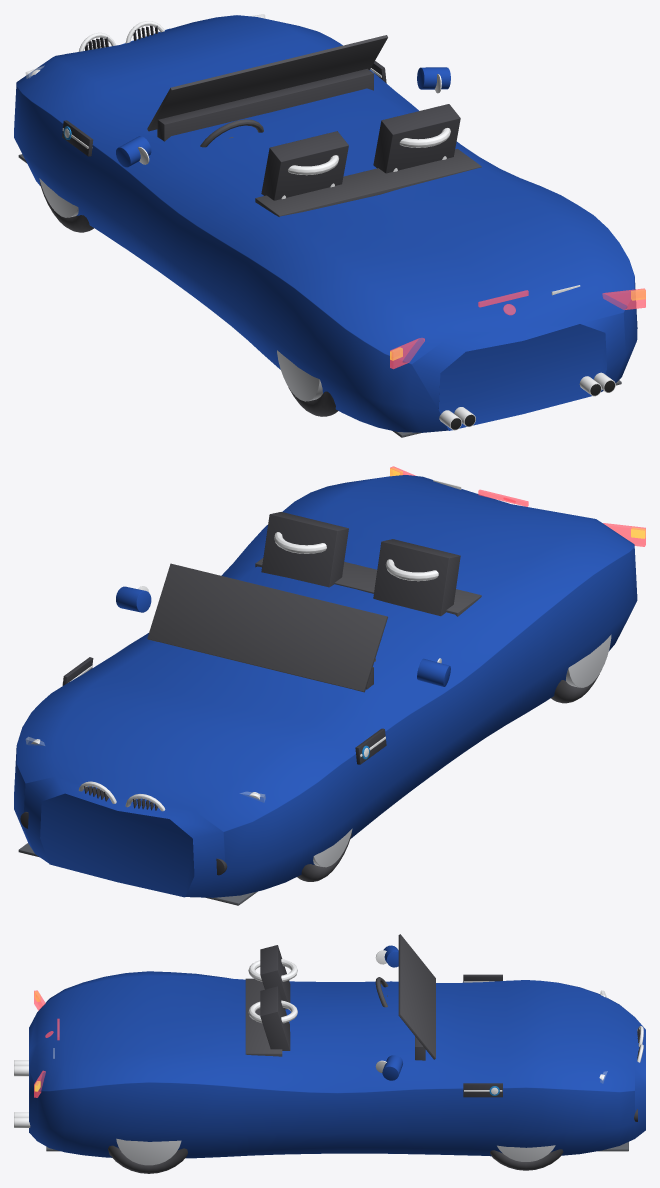
Rendered from Car_BMW_Z3M_Roadster_Complete.glb.
The picture shows the model from 3 angles, top to bottom: view 1: azimuth 30°, elevation 25°; view 2: azimuth 150°, elevation 25°; view 3: azimuth 270°, elevation 25°; orthographic projection. The views are drawn at different scales.
Visible parts, largest first — view 1: GEO_Z3M_Widebody_Monocoque_Shell, GEO_Z3M_MSport_Nappa_Bucket_Seats, GEO_Z3M_Windshield_Satin_Black_Frame, GEO_Z3M_Driver_Oriented_Dashboard, GEO_Z3M_Folded_SoftTop_Tonneau_Deck, GEO_Z3M_LShaped_Ruby_Taillamp_Clusters, GEO_Z3M_M_Teardrop_Mirror_Housings, GEO_Z3M_Rear_17in_DeepDish_RoadStar_Rims, GEO_Z3M_Twin_Chrome_Roll_Over_Hoops, GEO_Z3M_Quad_Chrome_Exhaust_Tips, GEO_Z3M_Side_Fender_Engine_Gills, GEO_Z3M_Rear_245_40ZR17_PilotSport_Tires; view 2: GEO_Z3M_Widebody_Monocoque_Shell, GEO_Z3M_Windshield_Satin_Black_Frame, GEO_Z3M_MSport_Nappa_Bucket_Seats, GEO_Z3M_M_Teardrop_Mirror_Housings, GEO_Z3M_Folded_SoftTop_Tonneau_Deck, GEO_Z3M_Rear_17in_DeepDish_RoadStar_Rims, GEO_Z3M_Twin_Chrome_Roll_Over_Hoops, GEO_Z3M_Side_Fender_Engine_Gills, GEO_Z3M_LShaped_Ruby_Taillamp_Clusters; view 3: GEO_Z3M_Widebody_Monocoque_Shell, GEO_Z3M_Windshield_Satin_Black_Frame, GEO_Z3M_MSport_Nappa_Bucket_Seats, GEO_Z3M_Folded_SoftTop_Tonneau_Deck, GEO_Z3M_Rear_17in_DeepDish_RoadStar_Rims, GEO_Z3M_Rear_245_40ZR17_PilotSport_Tires, GEO_Z3M_Twin_Chrome_Roll_Over_Hoops, GEO_Z3M_Side_Fender_Engine_Gills, GEO_Z3M_Front_225_45ZR17_PilotSport_Tires, GEO_Z3M_M_Teardrop_Mirror_Housings, GEO_Z3M_Front_17in_RoadStar_Rims, GEO_Z3M_Quad_Chrome_Exhaust_Tips (+1 smaller).
Part boxes in pixels (x1,y1,x2,y2): GEO_Z3M_Widebody_Monocoque_Shell: (14,15,637,432); GEO_Z3M_MSport_Nappa_Bucket_Seats: (261,104,460,200); GEO_Z3M_Windshield_Satin_Black_Frame: (147,35,387,131); GEO_Z3M_Driver_Oriented_Dashboard: (157,68,373,141); GEO_Z3M_Folded_SoftTop_Tonneau_Deck: (255,149,481,216); GEO_Z3M_LShaped_Ruby_Taillamp_Clusters: (390,288,645,369); GEO_Z3M_M_Teardrop_Mirror_Housings: (116,67,450,167); GEO_Z3M_Rear_17in_DeepDish_RoadStar_Rims: (277,350,322,401); GEO_Z3M_Twin_Chrome_Roll_Over_Hoops: (281,128,450,199); GEO_Z3M_Quad_Chrome_Exhaust_Tips: (439,372,615,430); GEO_Z3M_Side_Fender_Engine_Gills: (62,61,386,156); GEO_Z3M_Rear_245_40ZR17_PilotSport_Tires: (288,387,338,416); GEO_Z3M_Widebody_Monocoque_Shell: (14,475,637,897); GEO_Z3M_Windshield_Satin_Black_Frame: (147,563,387,692); GEO_Z3M_MSport_Nappa_Bucket_Seats: (261,512,460,616); GEO_Z3M_M_Teardrop_Mirror_Housings: (116,586,450,686); GEO_Z3M_Folded_SoftTop_Tonneau_Deck: (255,558,481,616); GEO_Z3M_Rear_17in_DeepDish_RoadStar_Rims: (566,634,611,687); GEO_Z3M_Twin_Chrome_Roll_Over_Hoops: (274,532,438,581); GEO_Z3M_Side_Fender_Engine_Gills: (62,657,386,764); GEO_Z3M_LShaped_Ruby_Taillamp_Clusters: (390,466,645,546); GEO_Z3M_Widebody_Monocoque_Shell: (29,971,645,1158); GEO_Z3M_Windshield_Satin_Black_Frame: (398,934,435,1059); GEO_Z3M_MSport_Nappa_Bucket_Seats: (260,945,290,1050); GEO_Z3M_Folded_SoftTop_Tonneau_Deck: (245,978,282,1056); GEO_Z3M_Rear_17in_DeepDish_RoadStar_Rims: (116,1138,181,1165); GEO_Z3M_Rear_245_40ZR17_PilotSport_Tires: (108,1145,187,1173); GEO_Z3M_Twin_Chrome_Roll_Over_Hoops: (248,959,297,1023); GEO_Z3M_Side_Fender_Engine_Gills: (463,974,502,1097); GEO_Z3M_Front_225_45ZR17_PilotSport_Tires: (490,1149,563,1170); GEO_Z3M_M_Teardrop_Mirror_Housings: (382,945,402,1080); GEO_Z3M_Front_17in_RoadStar_Rims: (497,1145,555,1161); GEO_Z3M_Quad_Chrome_Exhaust_Tips: (14,1060,30,1127).
Bounding box in the file's own units: 1.88 × 1.08 × 4.12.
